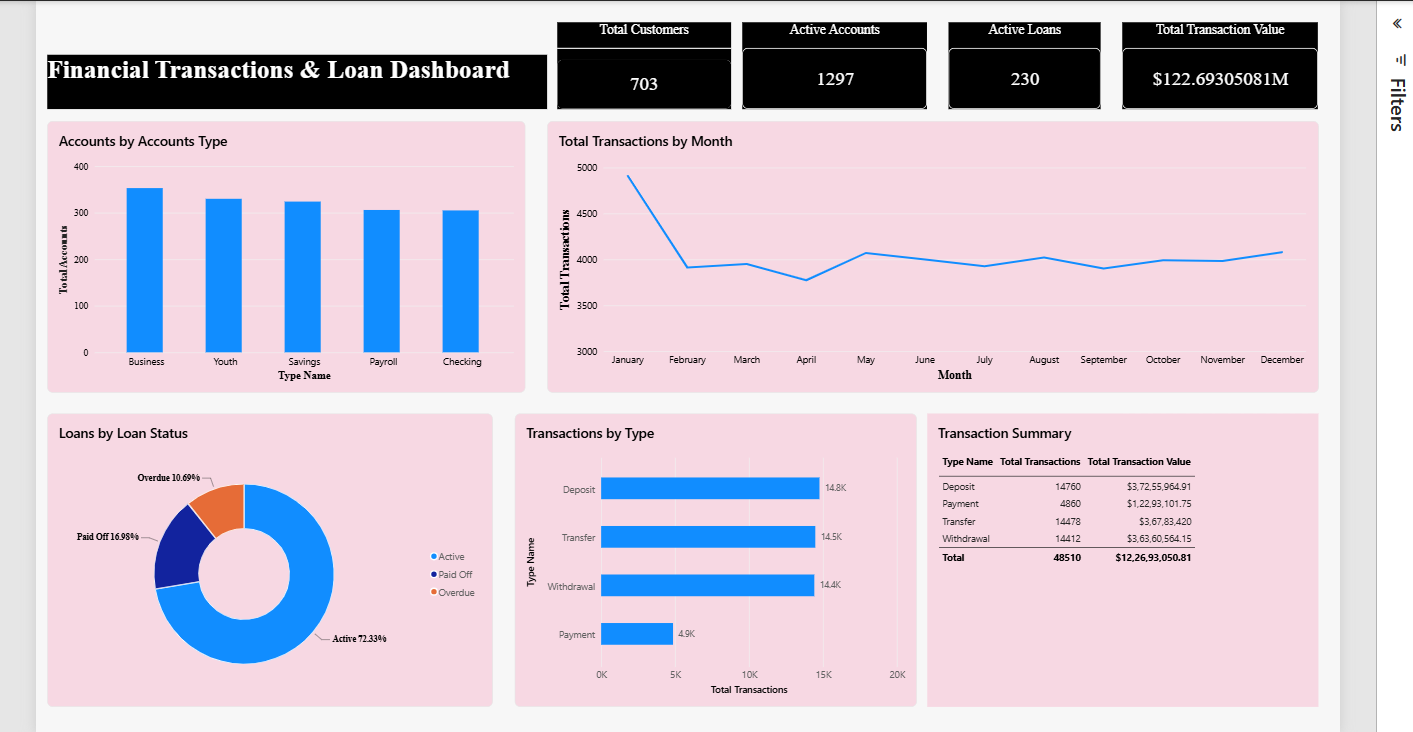

Layout of this report page (visuals, bound fields, positions):
{"tool":"powerbi","page":{"name":"Finance Overview","canvas":[1920,1080],"ordinal":0},"visuals":[{"type":"textbox","box":[16,80,736,80],"z":0},{"type":"cardVisual","title":"Total Customers","fields":{"Data":["Customers.Total Customers"]},"box":[768,32,256,128],"z":1},{"type":"cardVisual","title":"Active Accounts","fields":{"Data":["Accounts.Active Accounts"]},"box":[1040,32,272,128],"z":2},{"type":"cardVisual","title":"Active Loans","fields":{"Data":["Loans.Active Loans"]},"box":[1344,32,224,128],"z":3},{"type":"cardVisual","title":"Total Transaction Value","fields":{"Data":["Transactions.Total Transaction Value"]},"box":[1600,32,288,128],"z":4},{"type":"clusteredColumnChart","title":"Accounts by Accounts Type","fields":{"Category":["Account Types.Type Name"],"Y":["Accounts.Total Accounts"]},"box":[16,176,704,400],"z":5},{"type":"lineChart","title":"Total Transactions by Month","fields":{"Category":["Transactions.Transaction Date.Variation.Date Hierarchy.Month"],"Y":["Transactions.Total Transactions"]},"box":[752,176,1136,400],"z":6},{"type":"donutChart","title":"Loans by Loan Status","fields":{"Category":["Loan Statuses.Status Name"],"Y":["Loans.Total Loans"]},"box":[16,608,656,432],"z":7},{"type":"clusteredBarChart","title":"Transactions by Type","fields":{"Category":["Transaction Types.Type Name"],"Y":["Transactions.Total Transactions"]},"box":[704,608,592,432],"z":8},{"type":"tableEx","title":"Transaction Summary","fields":{"Values":["Transaction Types.Type Name","Transactions.Total Transactions","Transactions.Total Transaction Value"]},"box":[1312,608,576,432],"z":9}]}

Visuals, with their boxes on the page's 1920x1080 design canvas (x1, y1, x2, y2). These are canvas units, not pixel positions in the 1413x732 screenshot, which may show the page scaled, cropped or inside an application window:
textbox: x1=16 y1=80 x2=752 y2=160
"Total Customers" cardVisual: x1=768 y1=32 x2=1024 y2=160
"Active Accounts" cardVisual: x1=1040 y1=32 x2=1312 y2=160
"Active Loans" cardVisual: x1=1344 y1=32 x2=1568 y2=160
"Total Transaction Value" cardVisual: x1=1600 y1=32 x2=1888 y2=160
"Accounts by Accounts Type" clusteredColumnChart: x1=16 y1=176 x2=720 y2=576
"Total Transactions by Month" lineChart: x1=752 y1=176 x2=1888 y2=576
"Loans by Loan Status" donutChart: x1=16 y1=608 x2=672 y2=1040
"Transactions by Type" clusteredBarChart: x1=704 y1=608 x2=1296 y2=1040
"Transaction Summary" tableEx: x1=1312 y1=608 x2=1888 y2=1040
